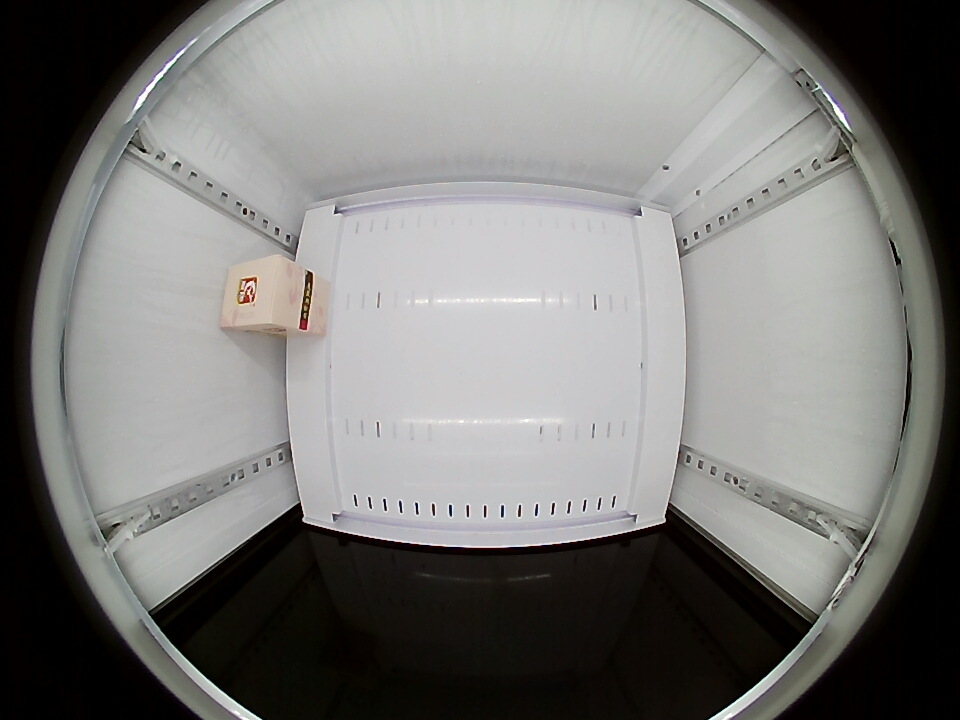rousongbing: (220, 254, 302, 334)
